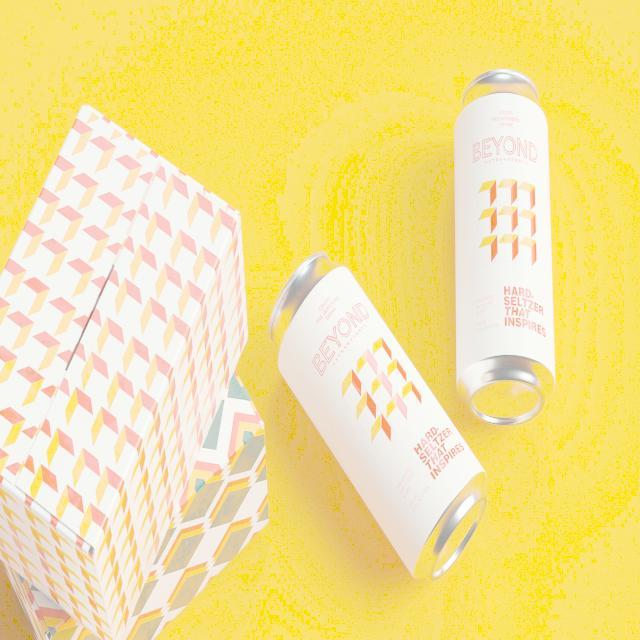can: (242, 192, 486, 614), (376, 1, 606, 414)
